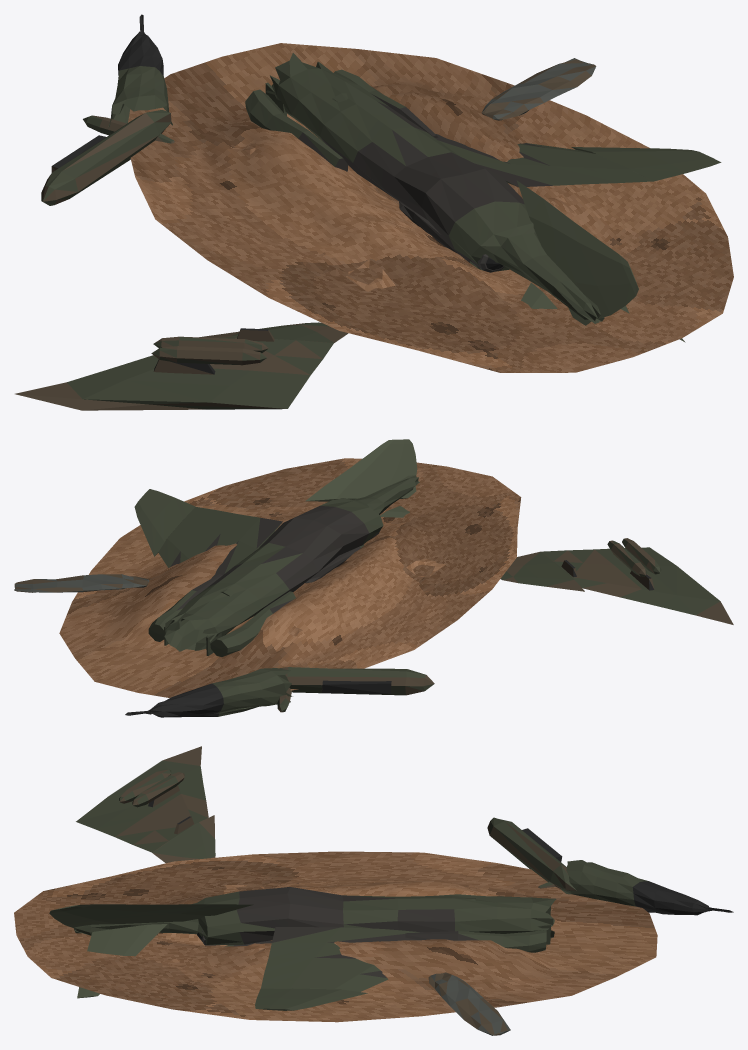
File: f4_phantom_crashed.glb
3 renders of one model, top to bottom at view 1: azimuth 30°, elevation 25°; view 2: azimuth 150°, elevation 25°; view 3: azimuth 270°, elevation 25°, orthographic. The views are drawn at different scales.
Visible parts, largest first — view 1: wreck_hard_mound, wreck_hard_fuselage, wreck_soft_wing_thrown, wreck_soft_wing_r, wreck_soft_tailfin, wreck_soft_tank_thrown, wreck_hard_nose, wreck_soft_canopy, wreck_soft_intake_l, wreck_soft_intake_r, wreck_soft_ord_bomb; view 2: wreck_hard_mound, wreck_hard_fuselage, wreck_soft_wing_thrown, wreck_soft_wing_r, wreck_hard_nose, wreck_soft_tank_thrown, wreck_soft_tailfin, wreck_soft_canopy, wreck_soft_intake_l, wreck_soft_intake_r; view 3: wreck_hard_mound, wreck_hard_fuselage, wreck_soft_wing_thrown, wreck_soft_wing_r, wreck_hard_nose, wreck_soft_tailfin, wreck_soft_tank_thrown, wreck_soft_canopy, wreck_soft_stab_r, wreck_soft_intake_r.
Part boxes in pixels (x1,y1,x2,y2): wreck_hard_mound: [128, 43, 733, 372]; wreck_hard_fuselage: [266, 53, 604, 323]; wreck_soft_wing_thrown: [15, 322, 348, 410]; wreck_soft_wing_r: [435, 134, 721, 187]; wreck_soft_tailfin: [516, 180, 638, 325]; wreck_soft_tank_thrown: [41, 110, 171, 205]; wreck_hard_nose: [108, 14, 172, 134]; wreck_soft_canopy: [481, 58, 596, 120]; wreck_soft_intake_l: [245, 82, 347, 171]; wreck_soft_intake_r: [334, 69, 438, 137]; wreck_soft_ord_bomb: [83, 115, 174, 143]; wreck_hard_mound: [59, 458, 521, 697]; wreck_hard_fuselage: [164, 475, 419, 651]; wreck_soft_wing_thrown: [500, 538, 733, 624]; wreck_soft_wing_r: [134, 489, 282, 578]; wreck_hard_nose: [125, 668, 292, 717]; wreck_soft_tank_thrown: [279, 667, 434, 695]; wreck_soft_tailfin: [305, 439, 417, 501]; wreck_soft_canopy: [14, 574, 149, 592]; wreck_soft_intake_l: [206, 591, 295, 656]; wreck_soft_intake_r: [148, 574, 222, 645]; wreck_hard_mound: [14, 851, 657, 1022]; wreck_hard_fuselage: [73, 887, 556, 946]; wreck_soft_wing_thrown: [76, 746, 215, 863]; wreck_soft_wing_r: [255, 927, 422, 1010]; wreck_hard_nose: [560, 860, 733, 915]; wreck_soft_tailfin: [49, 904, 253, 927]; wreck_soft_tank_thrown: [487, 817, 576, 891]; wreck_soft_canopy: [428, 972, 510, 1035]; wreck_soft_stab_r: [77, 924, 167, 998]; wreck_soft_intake_r: [405, 924, 550, 952].
Size of what is drawn, in the model's own units: 20.22 by 2.36 by 21.03.
Materials: 9 (1 with a texture image).
